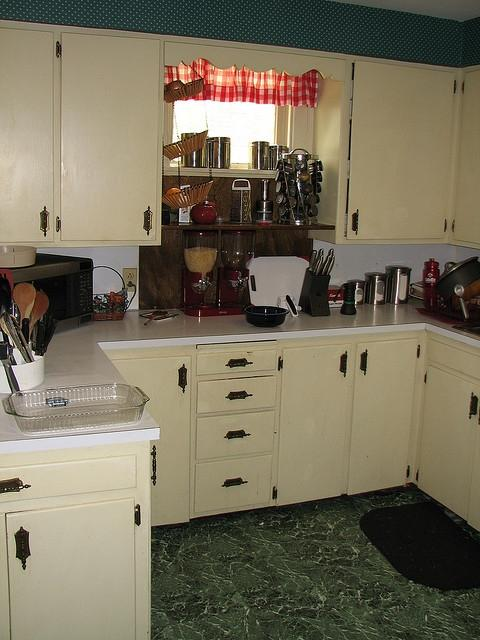onion: (166, 80, 184, 92)
